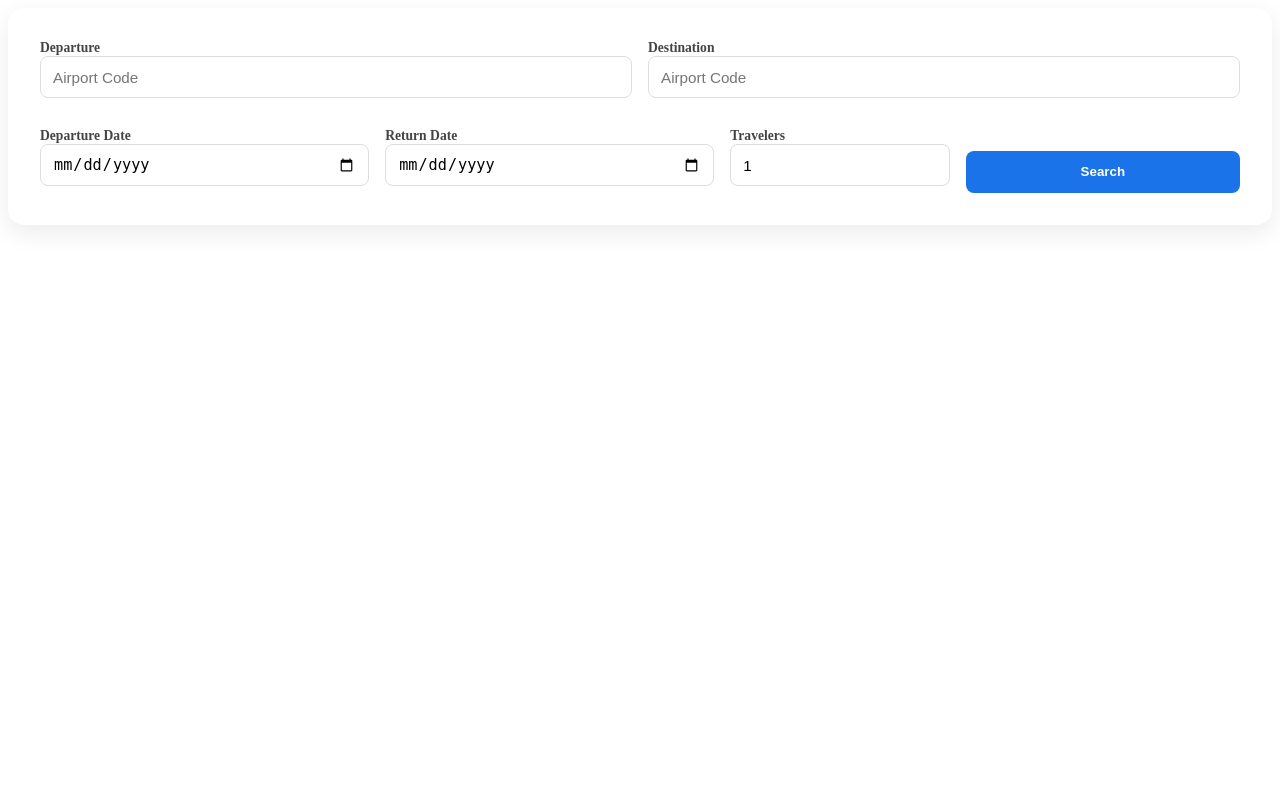
FlightSearchCard - Component Behavior › shows error when return date is before departure date
Step 1. Type "ATL" into the field with placeholder "Airport Code" → {"x": 336, "y": 77}, box [40,56,632,98]
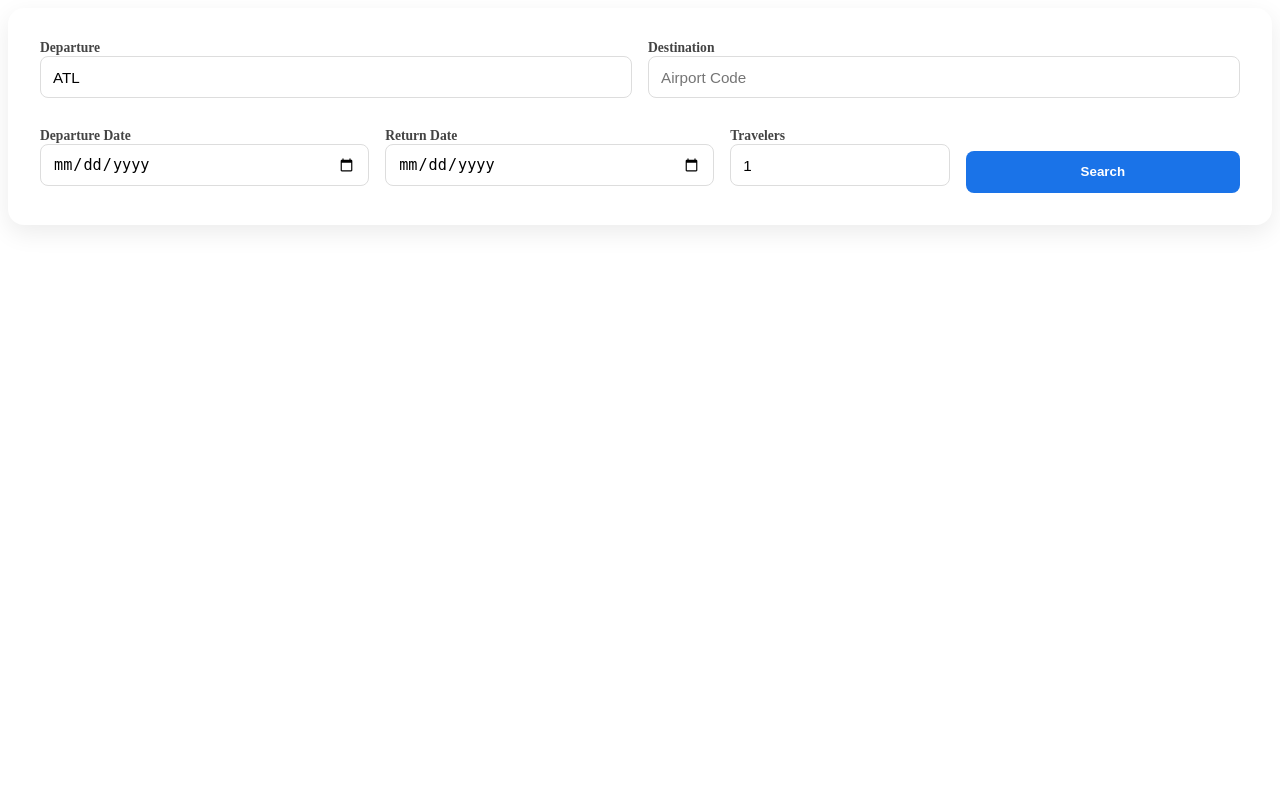
Step 2. Type "NYC" into the field with placeholder "Airport Code" → {"x": 944, "y": 77}, box [648,56,1240,98]
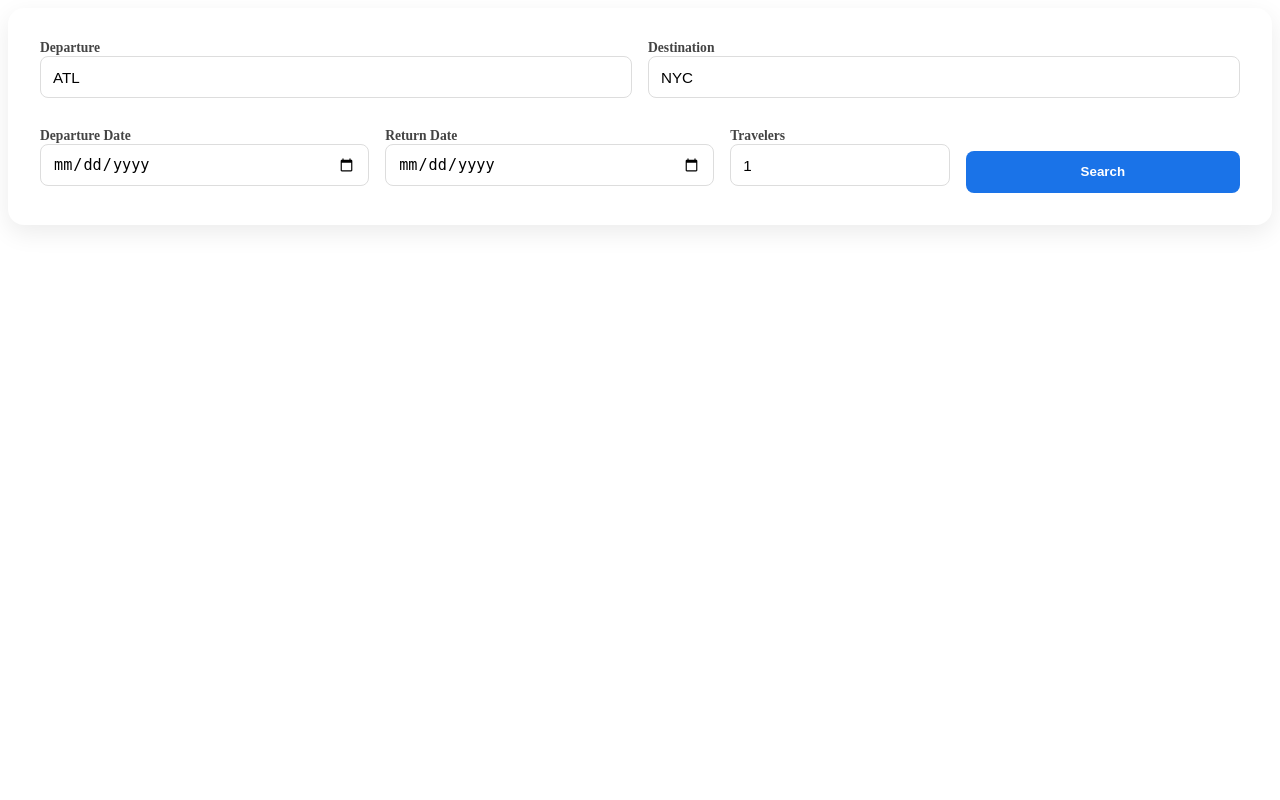
Step 3. Type "2026-03-10" into the date field labelled "Departure Date" → {"x": 205, "y": 165}, box [40,144,369,186]
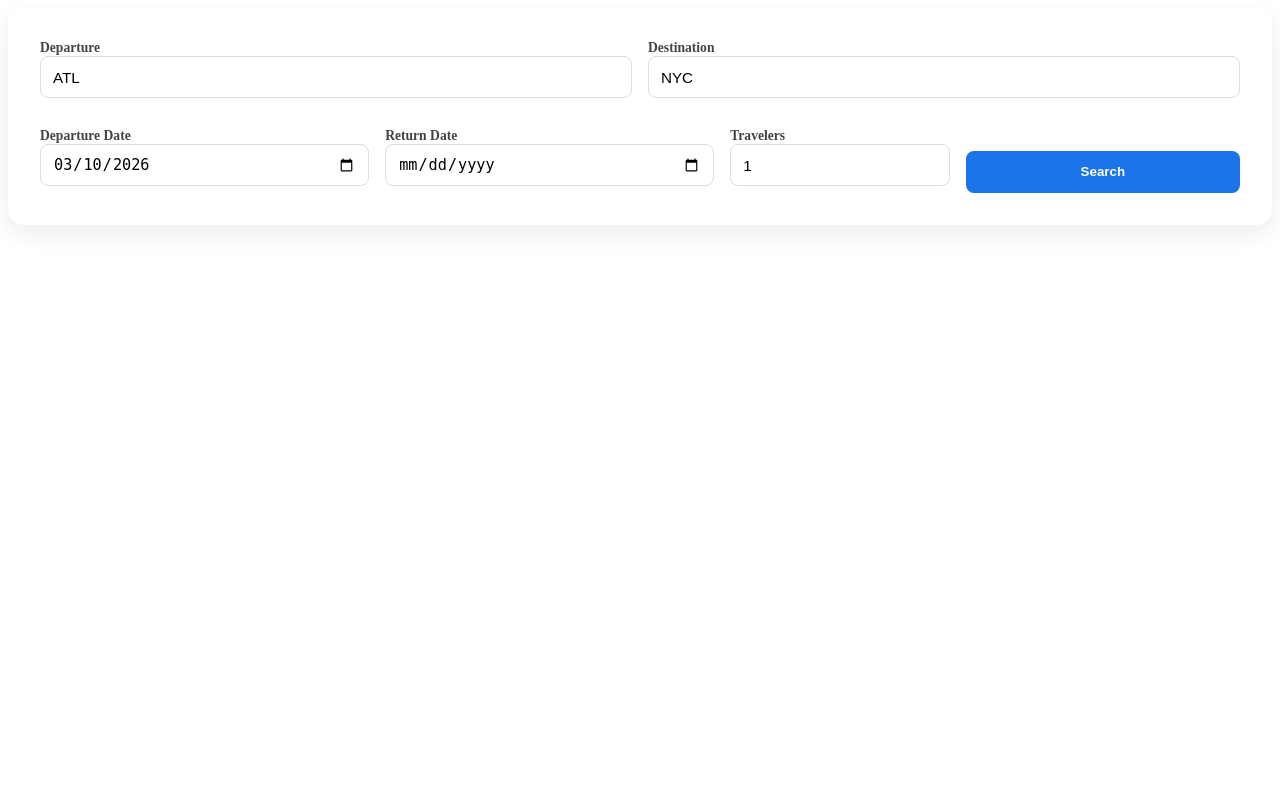
Step 4. Type "2026-03-01" into the date field labelled "Return Date" → {"x": 550, "y": 165}, box [385,144,714,186]
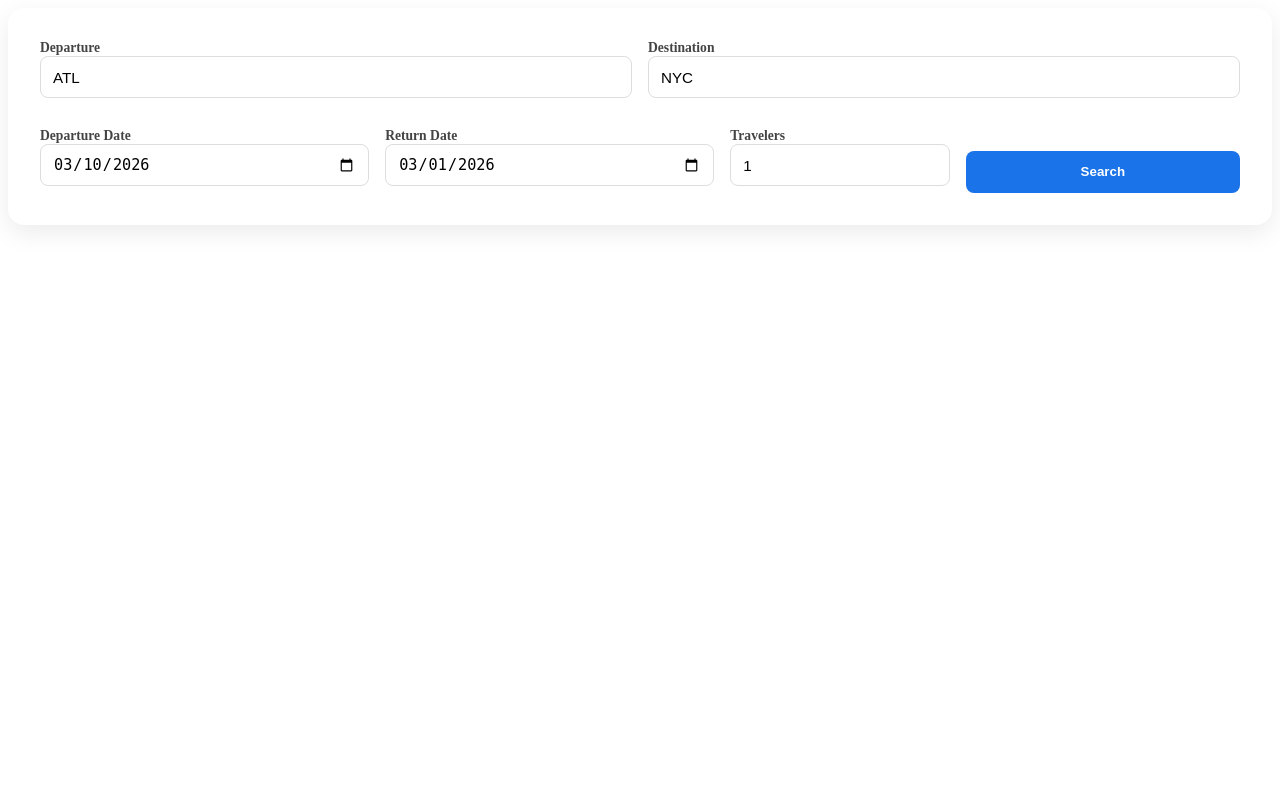
Step 5. Click the button "Search" → {"x": 1103, "y": 172}, box [966,151,1240,193]
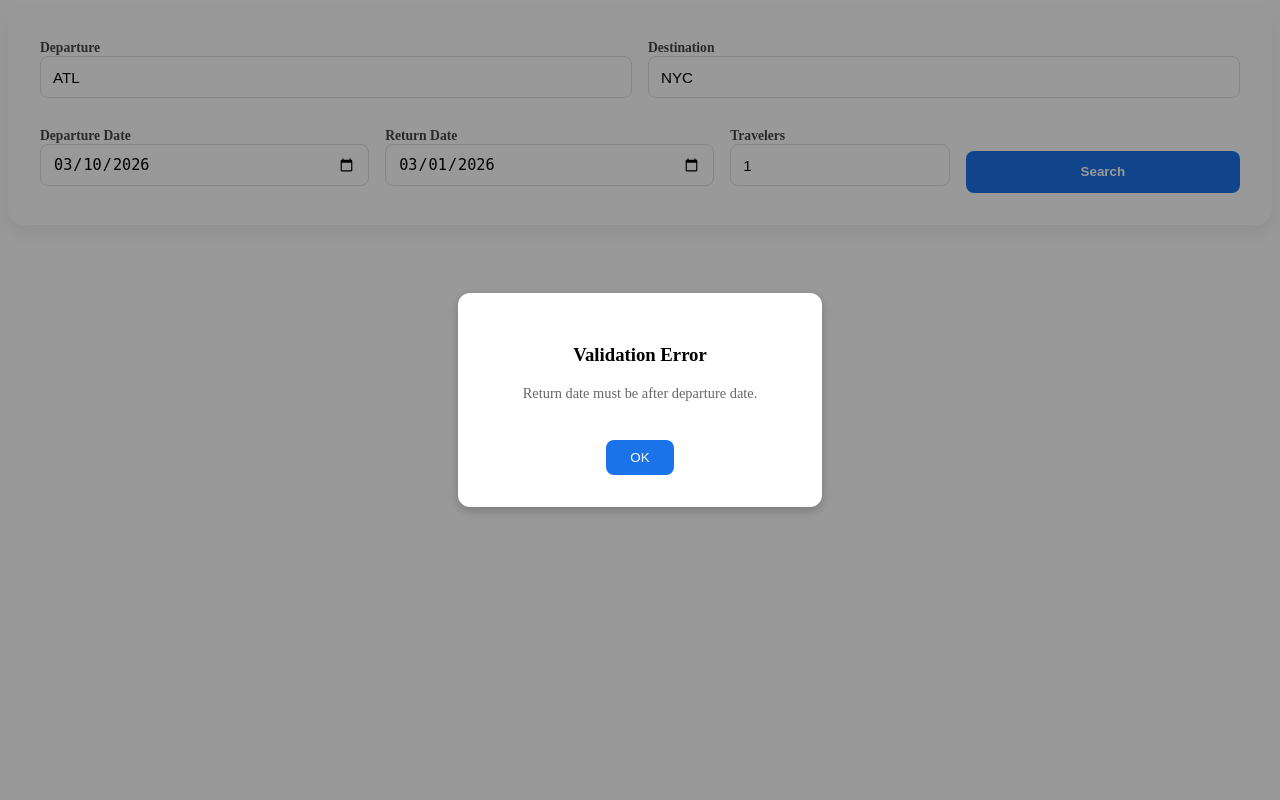
Result: the text "Return date must be after departure date." is shown at [523,385,757,401]
